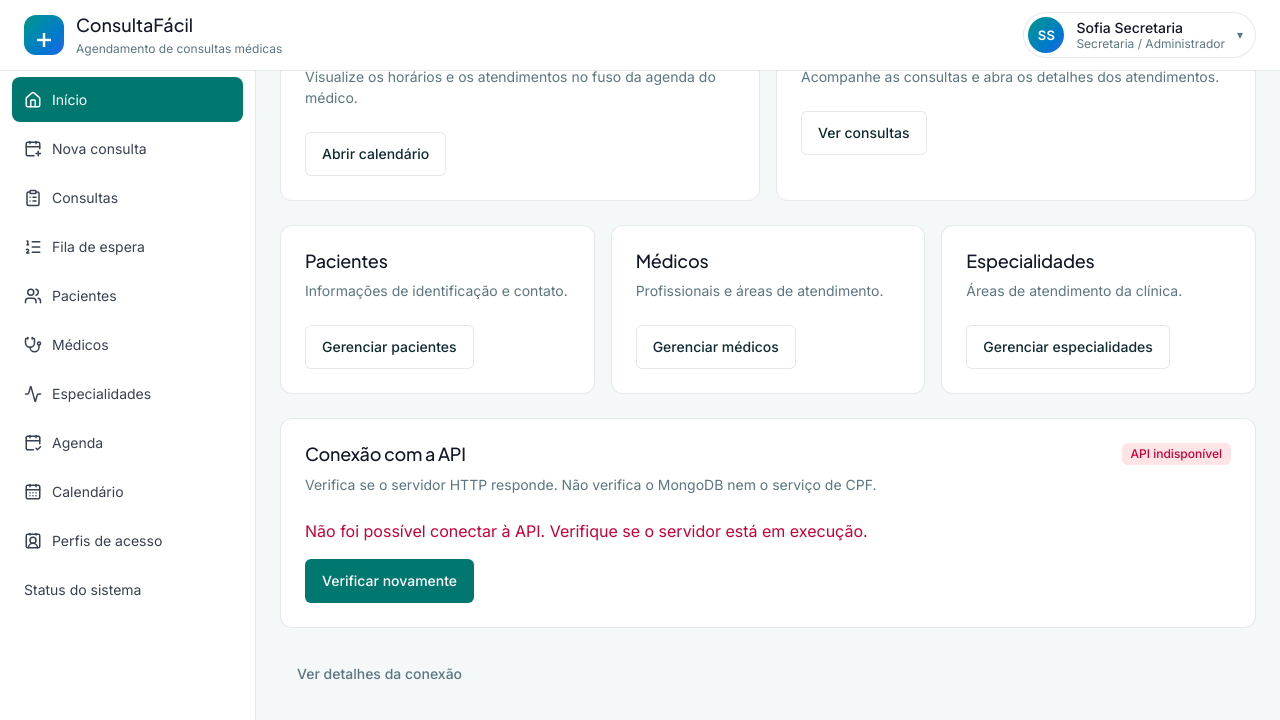
Test case: verificação do /health › refaz a verificação ao clicar em "Verificar novamente"
(page scrolled)
Expected: the text "API indisponível" is shown, [1122,443,1231,465]
Step 1. Click the button "Verificar novamente" → (390, 581), box [305,559,474,603]
(page scrolled)
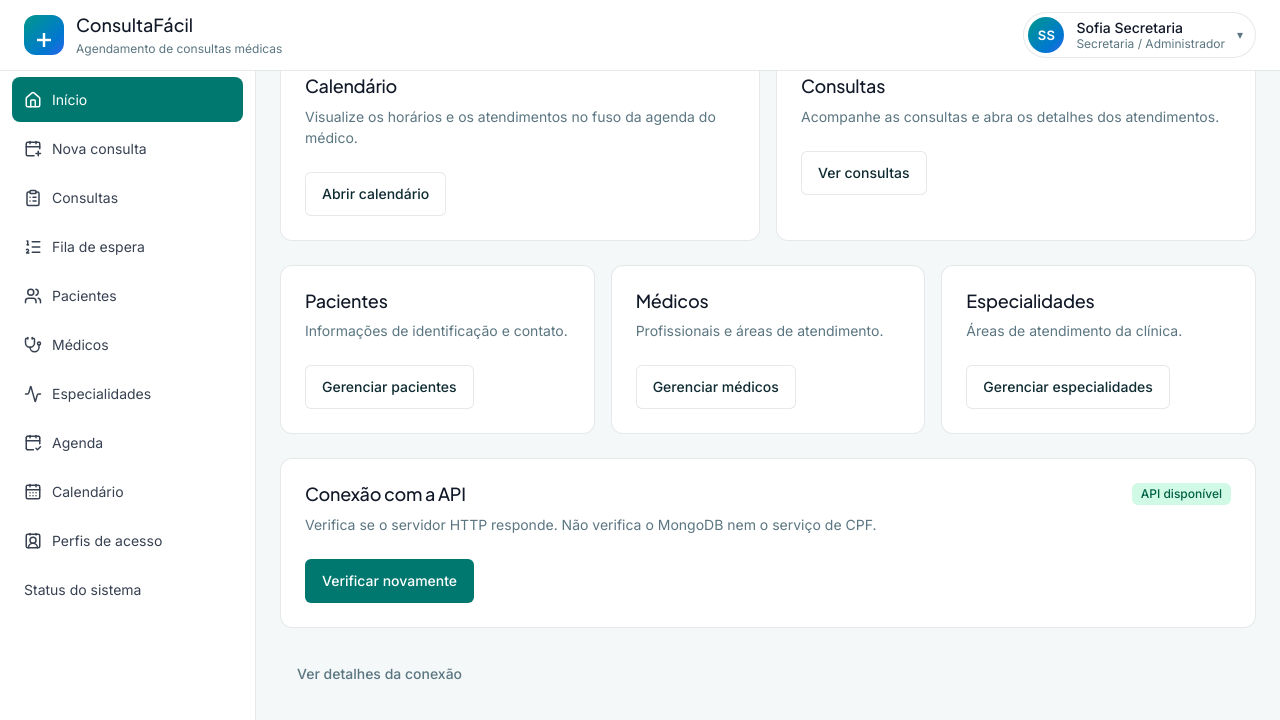
Result: the text "API disponível" is shown at [1132,483,1231,505]
